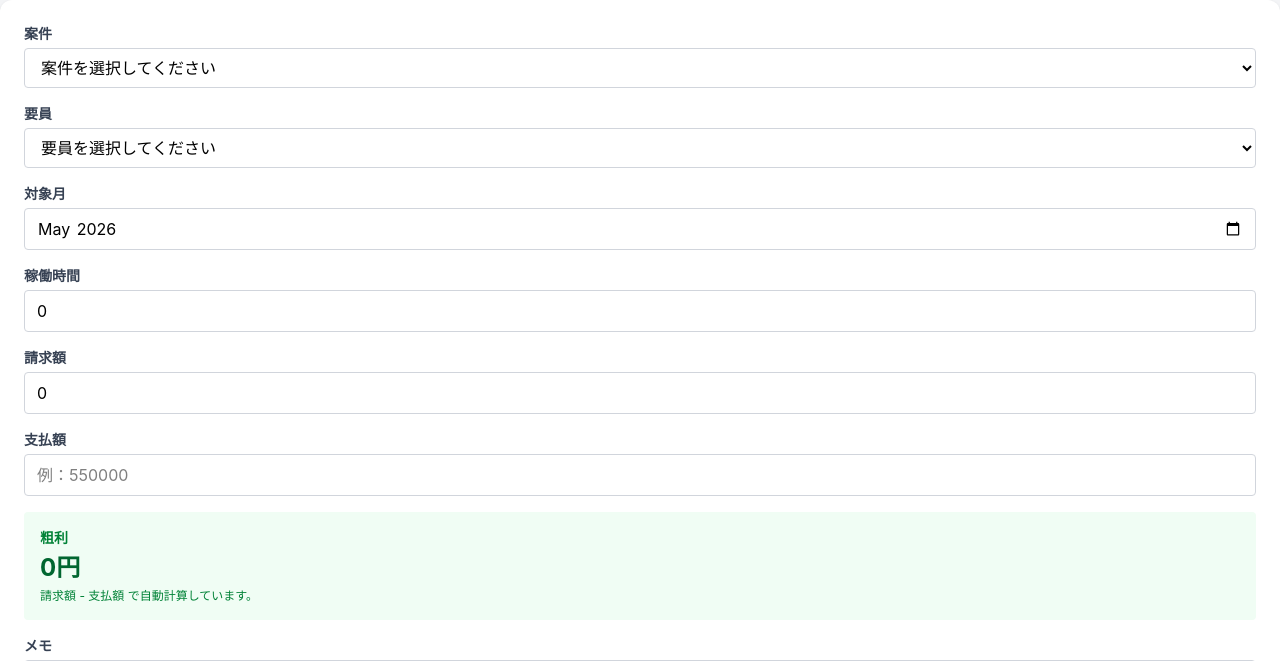
Test: WorkRecordForm › 請求額と支払額から粗利が表示される
Step 1. Type "750000" into the 2nd number field with placeholder "例：750000" → [640, 393], box [24,372,1256,414]
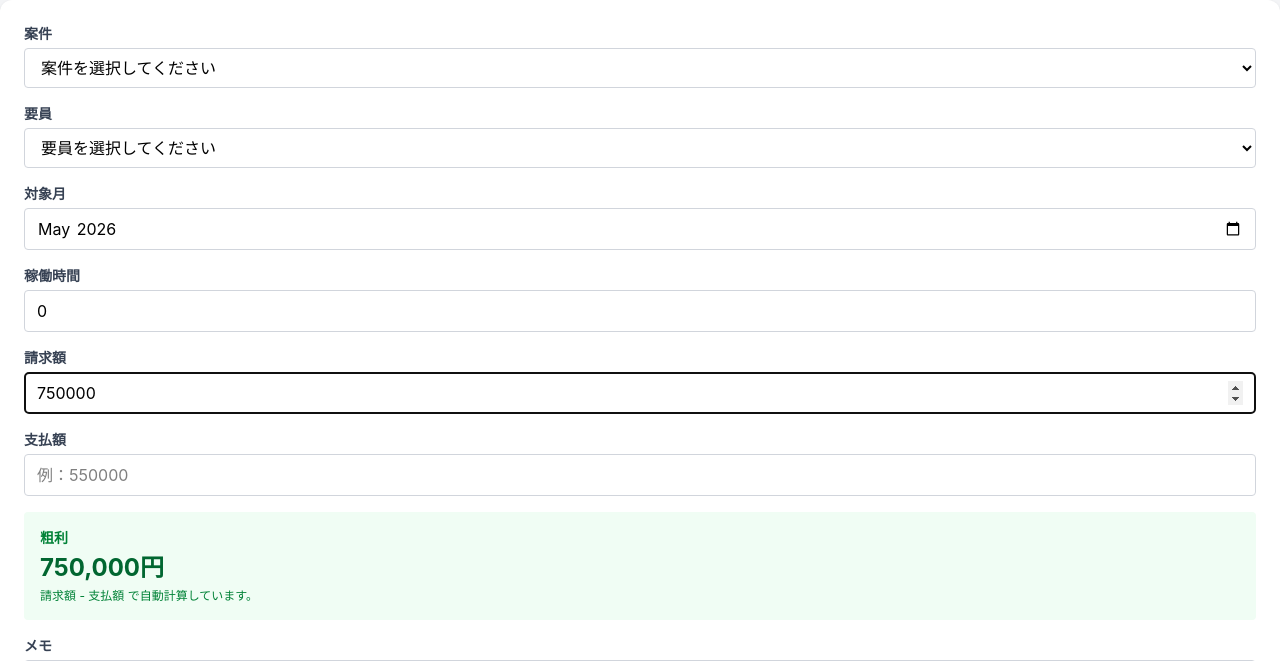
Step 2. Type "550000" into the number field with placeholder "例：550000" → [640, 475], box [24,454,1256,496]
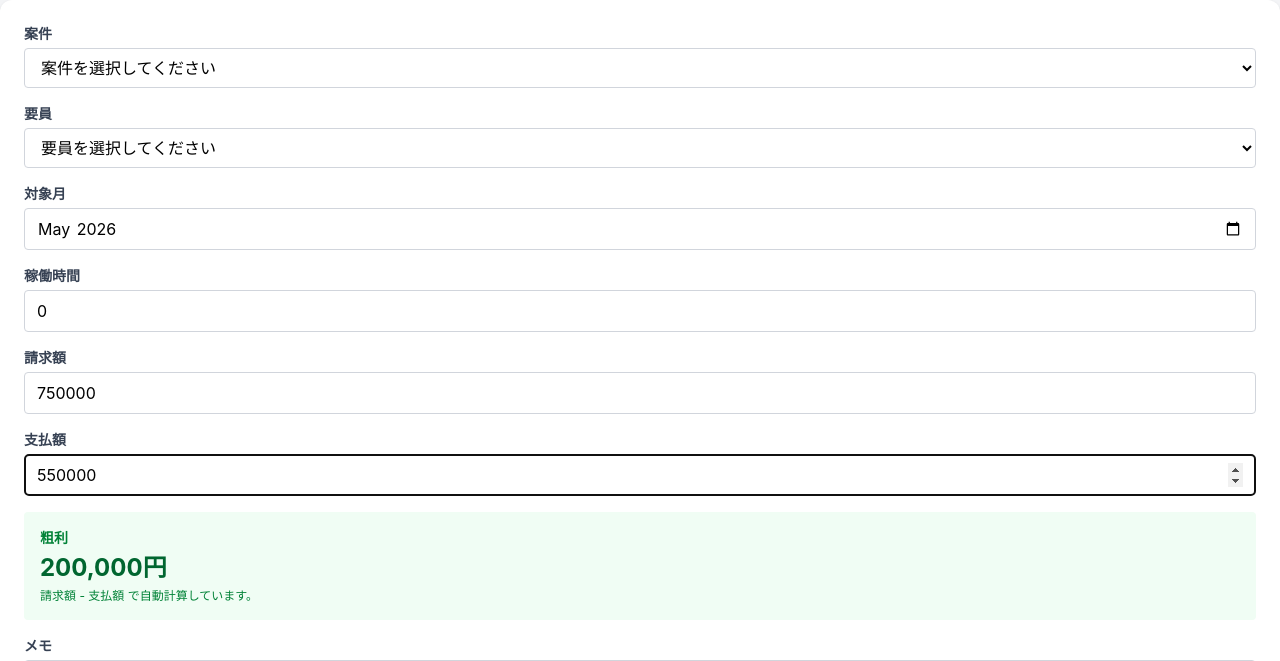
Expected: the text "200,000円" is shown, [40,553,167,582]
